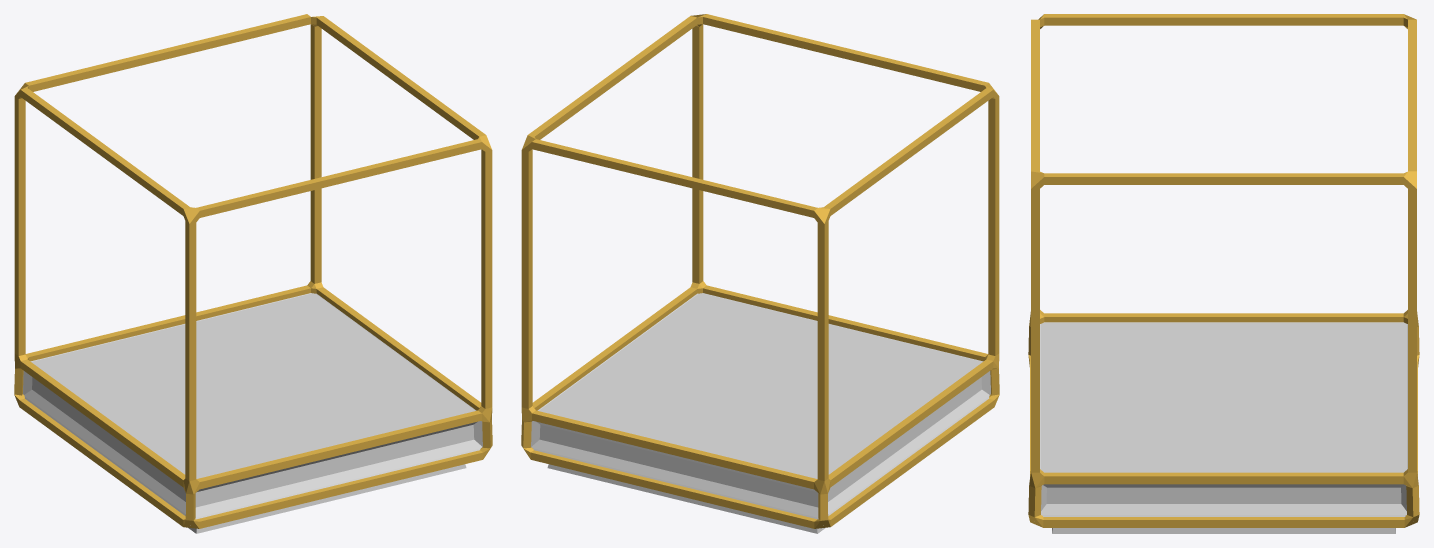
File: PlatformSquareCageShort.fbx
3 views of the same model, side by side, from view 1: azimuth 30°, elevation 25°; view 2: azimuth 150°, elevation 25°; view 3: azimuth 270°, elevation 25° (orthographic). The views are drawn at different scales.
Parts seen in each view (by area): view 1: PlatformBar.001; view 2: PlatformBar.001; view 3: PlatformBar.001.
Part boxes in pixels (box(x1,y1,x2,y2)): PlatformBar.001: box(14, 14, 492, 533); PlatformBar.001: box(521, 14, 999, 533); PlatformBar.001: box(1028, 14, 1419, 533).
Size of the model in its own units: 413 by 470 by 413.
